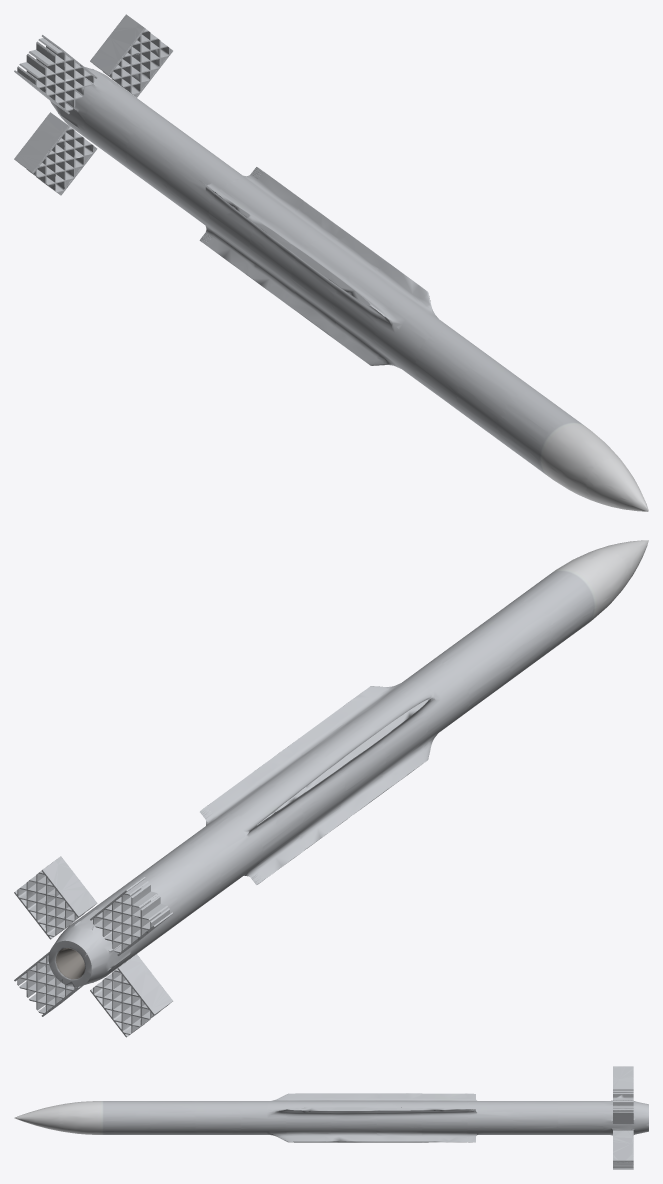
3 views of the same model, one above another, from view 1: azimuth 30°, elevation 25°; view 2: azimuth 150°, elevation 25°; view 3: azimuth 270°, elevation 25° (orthographic). The views are drawn at different scales.
Visible parts, largest first — view 1: airframe, fsim:elevator+aileron:1+rudder:1@-20,20, fsim:elevator+aileron:-1+rudder:1@-20,20, fsim:elevator+aileron:-1+rudder:-1@-20,20; view 2: airframe, fsim:elevator+aileron:1+rudder:1@-20,20, fsim:elevator+aileron:-1+rudder:1@-20,20, fsim:elevator+aileron:-1+rudder:-1@-20,20, fsim:elevator+aileron:1+rudder:-1@-20,20; view 3: airframe, fsim:elevator+aileron:1+rudder:-1@-20,20, fsim:elevator+aileron:1+rudder:1@-20,20, fsim:elevator+aileron:-1+rudder:-1@-20,20.
Part boxes in pixels (x1,y1,x2,y2): airframe: (50,67,648,511); fsim:elevator+aileron:1+rudder:1@-20,20: (90,14,172,97); fsim:elevator+aileron:-1+rudder:1@-20,20: (14,112,97,195); fsim:elevator+aileron:-1+rudder:-1@-20,20: (14,35,97,114); airframe: (48,540,648,987); fsim:elevator+aileron:1+rudder:1@-20,20: (14,856,97,939); fsim:elevator+aileron:-1+rudder:1@-20,20: (90,954,172,1037); fsim:elevator+aileron:-1+rudder:-1@-20,20: (90,876,172,955); fsim:elevator+aileron:1+rudder:-1@-20,20: (14,951,83,1016); airframe: (14,1093,648,1142); fsim:elevator+aileron:1+rudder:-1@-20,20: (613,1130,633,1169); fsim:elevator+aileron:1+rudder:1@-20,20: (613,1088,633,1123); fsim:elevator+aileron:-1+rudder:-1@-20,20: (613,1066,633,1088).
Size of the model in its own units: 0.521 by 0.5213 by 3.71.
3 materials, 1 textured.
